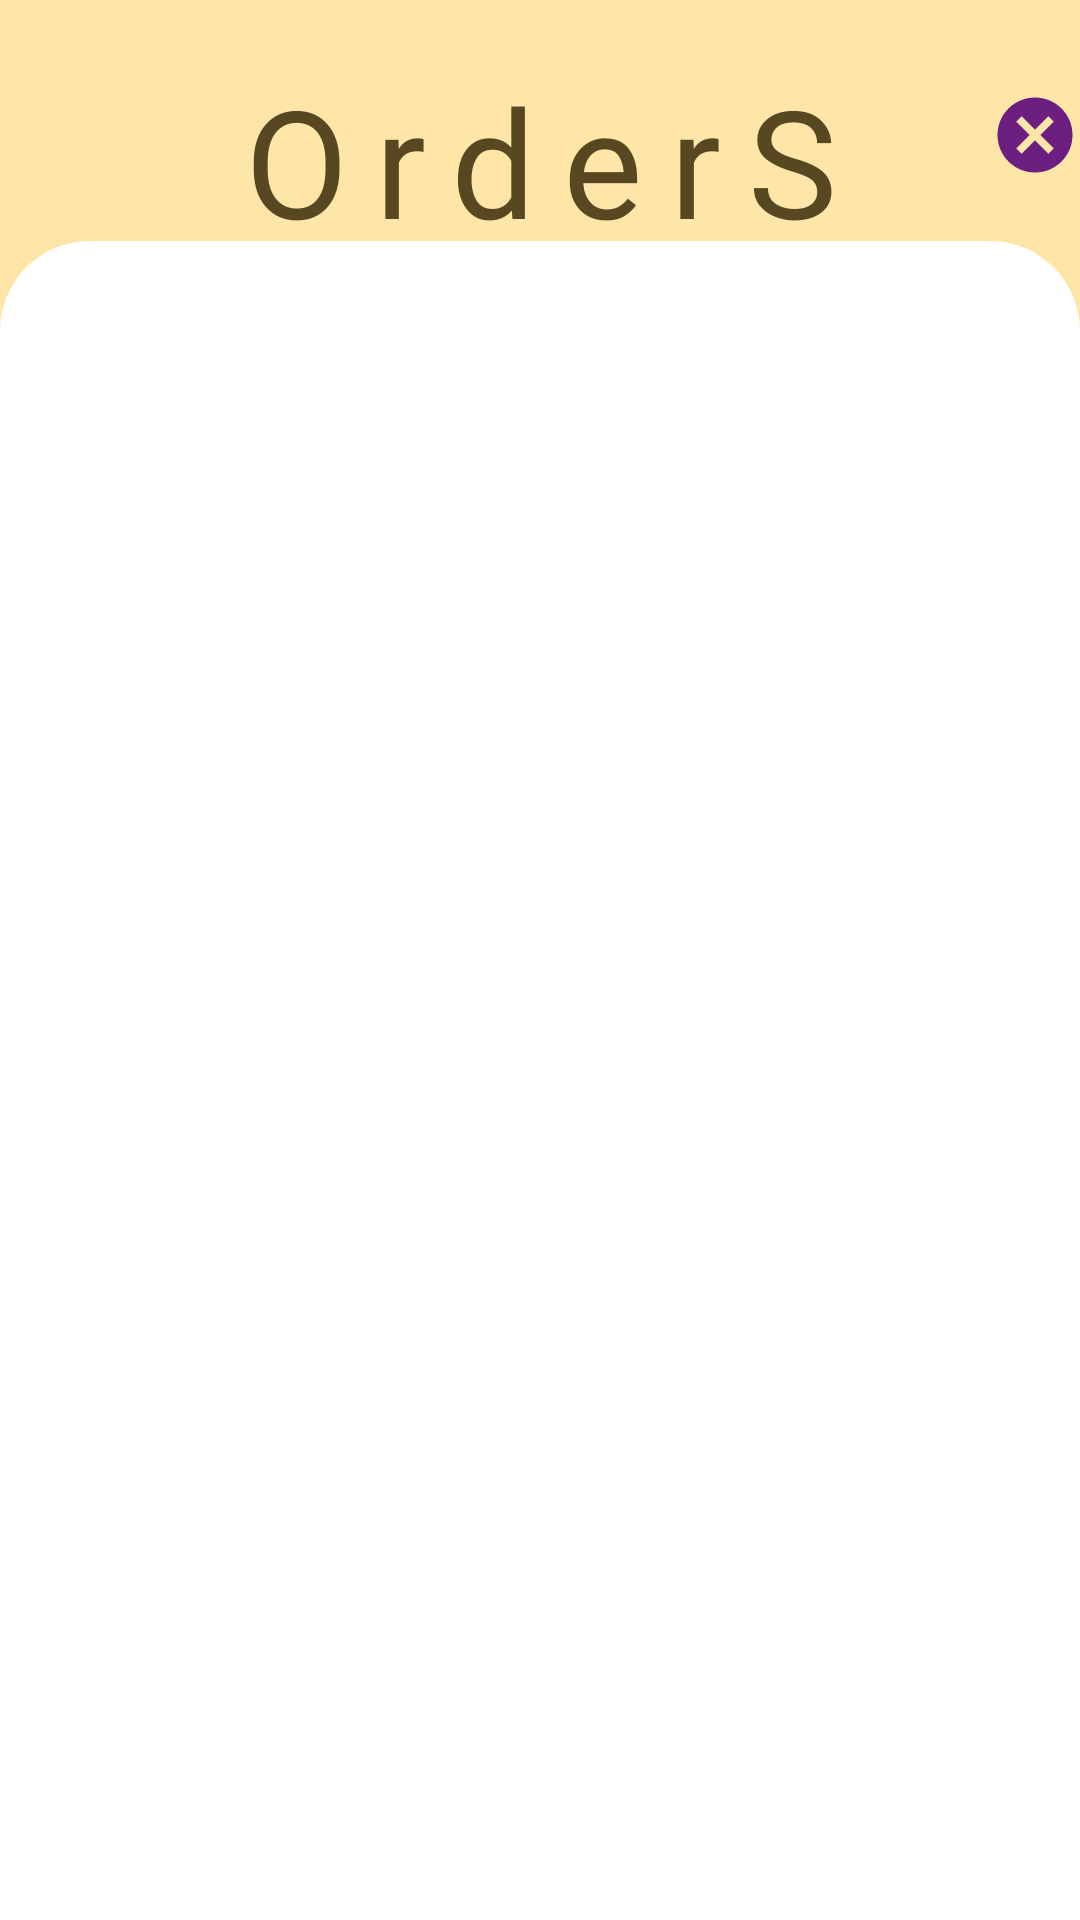

Where to tap for icons on this 1080px x 1920px app screen, as (x=x, y=y):
cancel: (x=1035, y=135)
